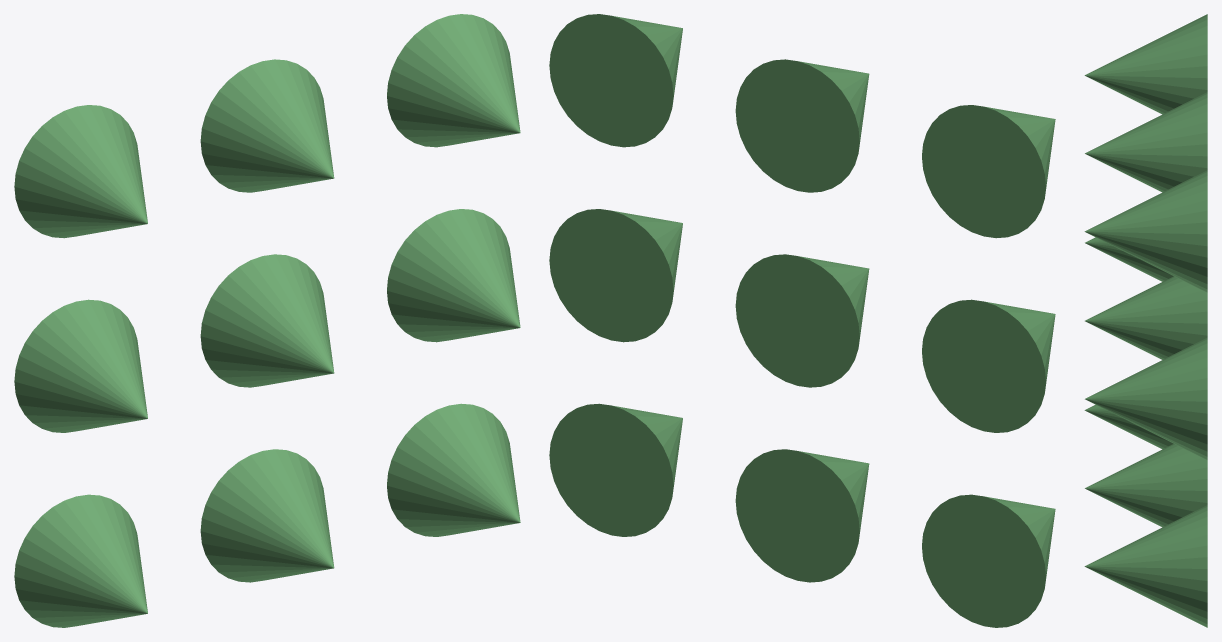
The model's file is spinach_grid.glb.
3 renders of one model, left to right at view 1: azimuth 30°, elevation 25°; view 2: azimuth 150°, elevation 25°; view 3: azimuth 270°, elevation 25°, orthographic. The views are drawn at different scales.
Parts seen in each view (by area): view 1: geometry_5, geometry_4, geometry_8, geometry_3, geometry_6, geometry_7, geometry_0, geometry_1, geometry_2; view 2: geometry_3, geometry_4, geometry_0, geometry_1, geometry_2, geometry_5, geometry_8, geometry_7, geometry_6; view 3: geometry_8, geometry_6, geometry_7, geometry_5, geometry_2, geometry_4, geometry_3, geometry_0, geometry_1.
Part boxes in pixels (x1=…): geometry_5: x1=200, y1=59, x2=334, y2=192; geometry_4: x1=200, y1=254, x2=334, y2=387; geometry_8: x1=387, y1=14, x2=520, y2=147; geometry_3: x1=200, y1=449, x2=334, y2=582; geometry_6: x1=387, y1=403, x2=520, y2=536; geometry_7: x1=387, y1=209, x2=520, y2=342; geometry_0: x1=14, y1=494, x2=147, y2=627; geometry_1: x1=14, y1=299, x2=147, y2=432; geometry_2: x1=14, y1=105, x2=147, y2=238; geometry_3: x1=735, y1=449, x2=869, y2=582; geometry_4: x1=735, y1=254, x2=869, y2=387; geometry_0: x1=922, y1=494, x2=1055, y2=627; geometry_1: x1=922, y1=299, x2=1055, y2=432; geometry_2: x1=922, y1=105, x2=1055, y2=238; geometry_5: x1=735, y1=59, x2=869, y2=192; geometry_8: x1=549, y1=14, x2=682, y2=147; geometry_7: x1=549, y1=209, x2=682, y2=342; geometry_6: x1=549, y1=403, x2=682, y2=536; geometry_8: x1=1084, y1=170, x2=1207, y2=292; geometry_6: x1=1084, y1=505, x2=1207, y2=627; geometry_7: x1=1085, y1=337, x2=1207, y2=460; geometry_5: x1=1085, y1=92, x2=1207, y2=192; geometry_2: x1=1084, y1=14, x2=1207, y2=114; geometry_4: x1=1085, y1=276, x2=1207, y2=359; geometry_3: x1=1085, y1=444, x2=1207, y2=527; geometry_0: x1=1084, y1=404, x2=1173, y2=449; geometry_1: x1=1085, y1=237, x2=1173, y2=281.
Bounding box in the file's own units: 0.4 × 0.4 × 0.1.
